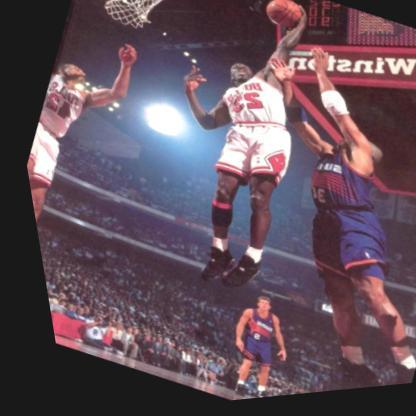basketball: (259, 0, 305, 39)
rim: (80, 0, 186, 43)
